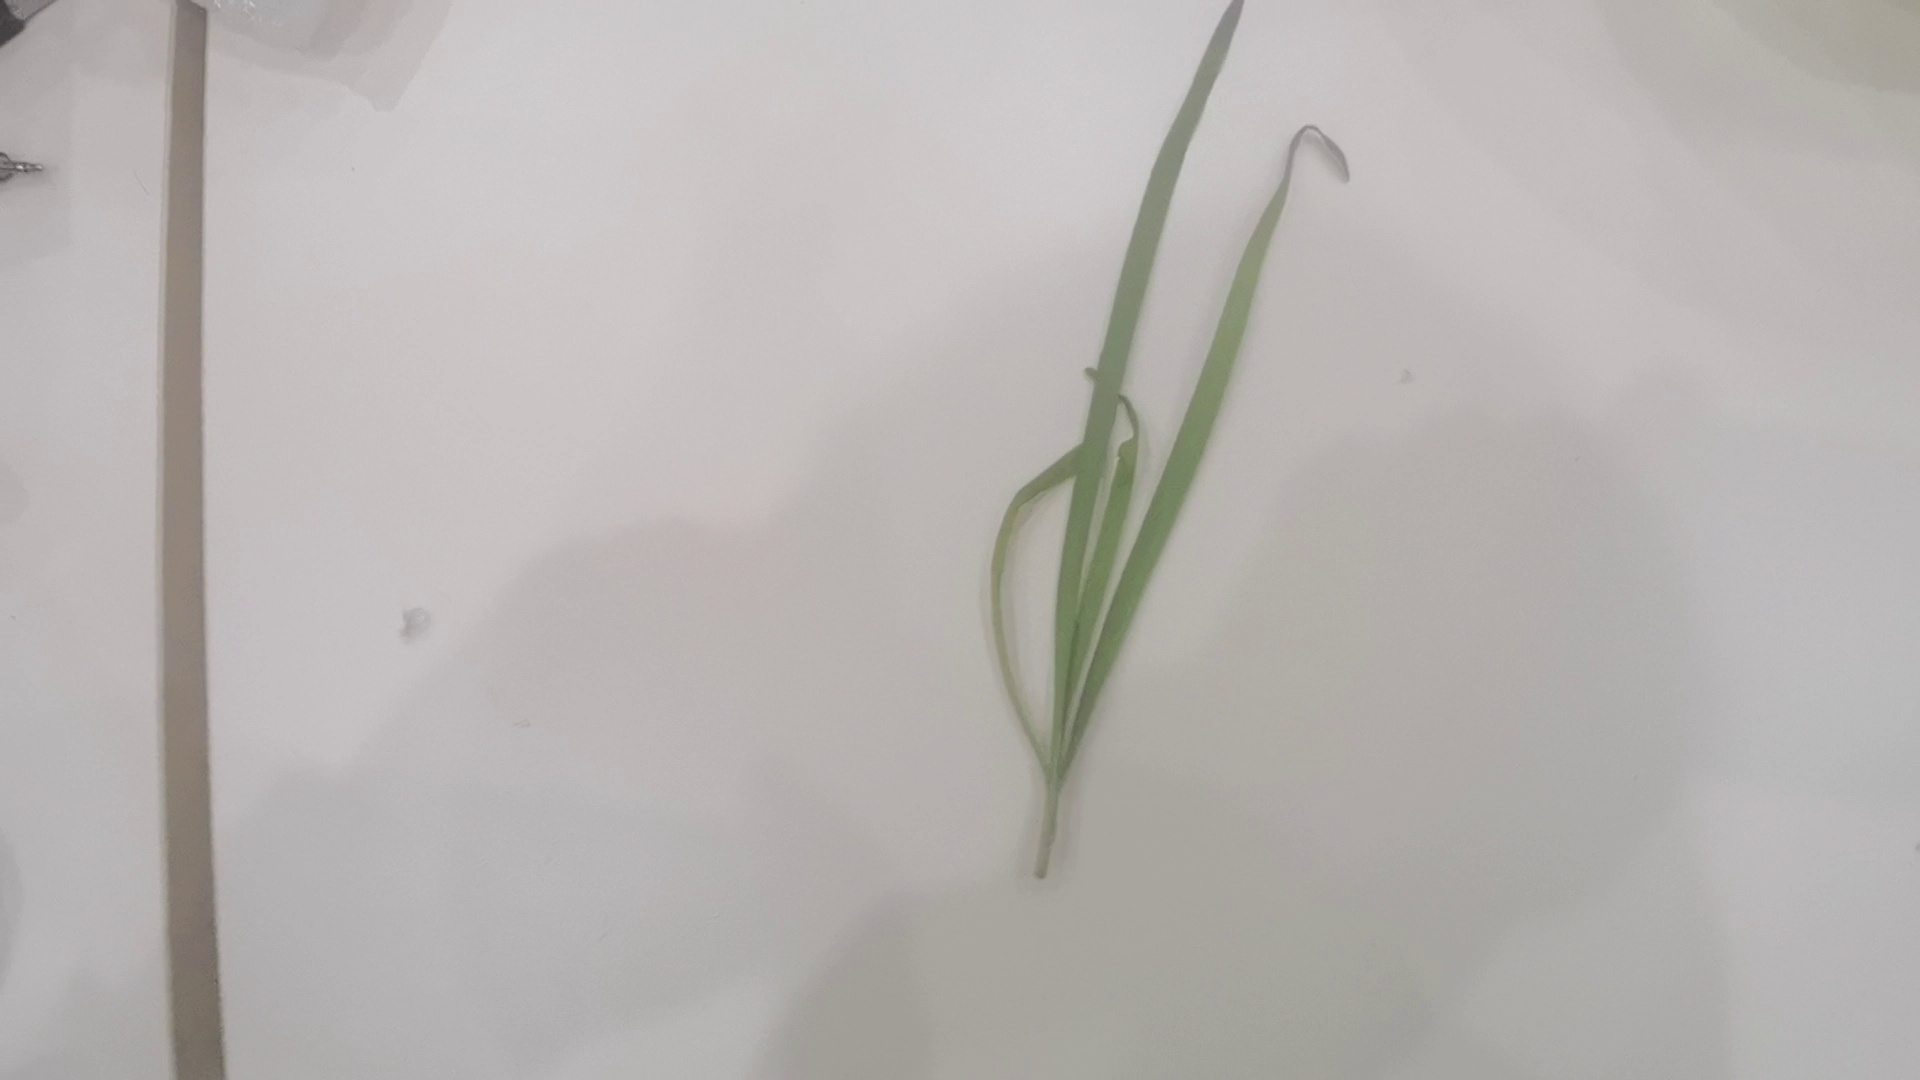chives: (992, 5, 1352, 923)
